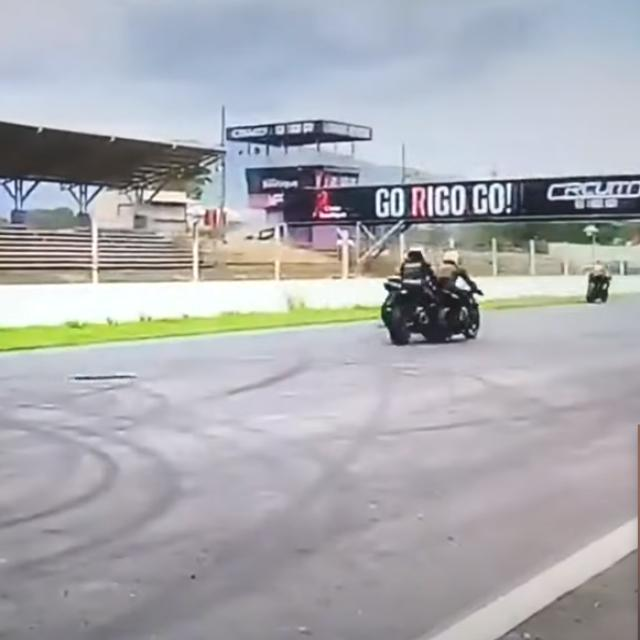non-accident: (380, 241, 484, 347)
